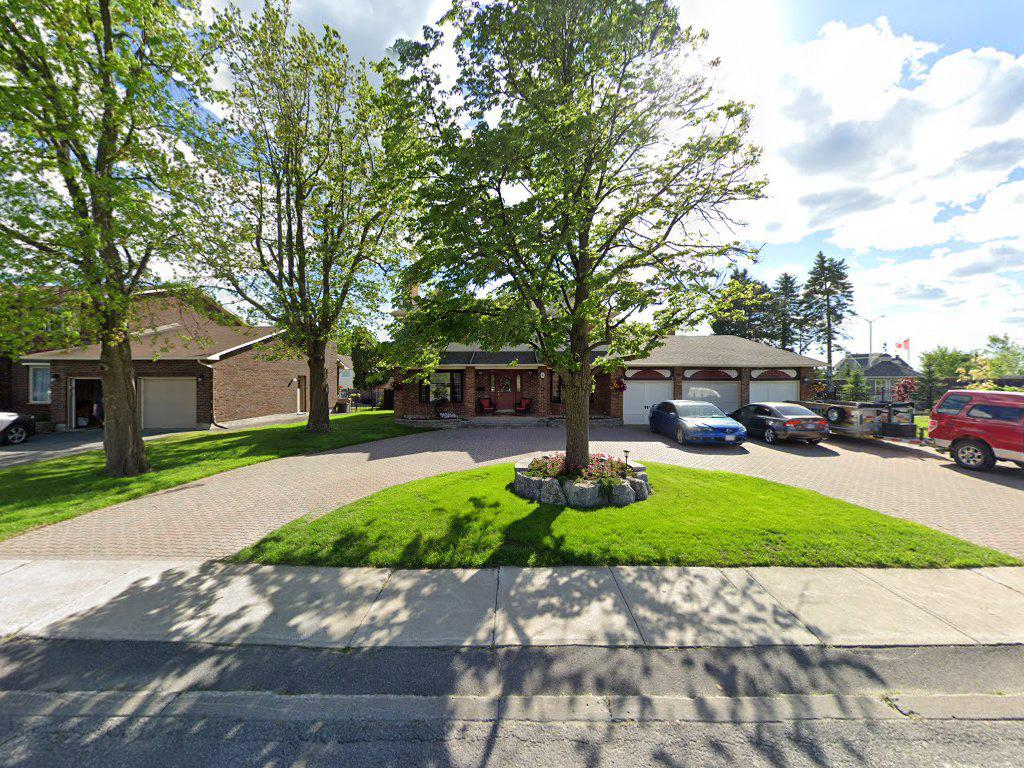trunk: (97, 289, 142, 486), (556, 315, 602, 489), (296, 314, 336, 446)
